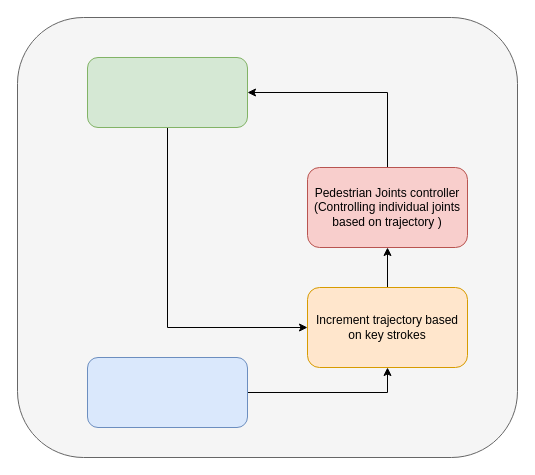
Image size: 535x475. Some labels were removed from this diagram. Each missing label, with the centre of its shape:
"Keyboard" goes at point 167,392.
"Webots (Pedestrian moving)" goes at point 167,92.
